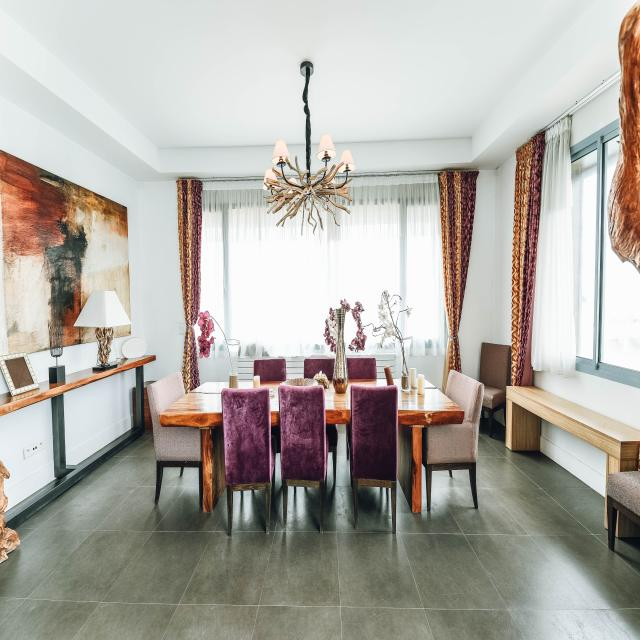floor: (0, 418, 640, 640)
wall: (0, 95, 143, 359), (471, 0, 638, 162), (0, 8, 159, 173), (139, 181, 187, 383), (458, 170, 496, 382), (63, 368, 136, 465), (0, 398, 57, 512), (533, 370, 640, 429), (540, 417, 607, 498), (326, 138, 471, 174), (494, 154, 516, 347), (159, 146, 283, 174), (569, 80, 620, 148), (57, 341, 99, 375), (409, 354, 445, 392), (27, 350, 57, 383), (197, 357, 230, 386), (287, 145, 307, 171), (310, 145, 326, 175), (0, 366, 10, 394), (493, 408, 505, 427), (396, 357, 401, 379)
